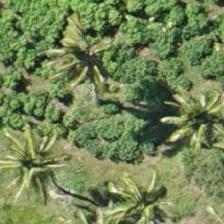coconut_tree: (40, 13, 130, 103), (0, 116, 77, 206), (151, 73, 223, 163), (97, 158, 187, 223)
